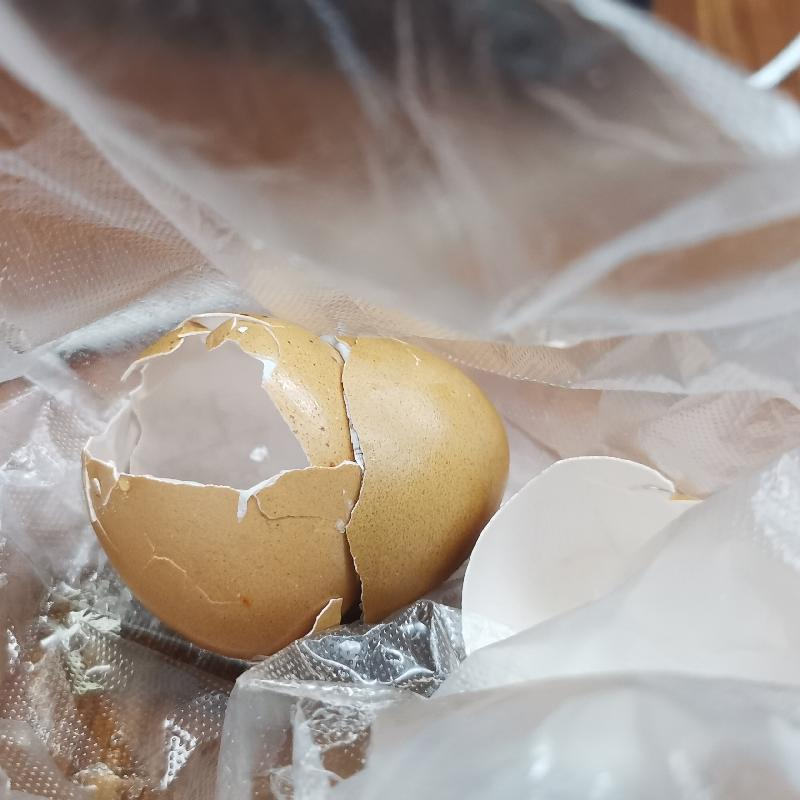eggshell: (79, 314, 524, 642)
